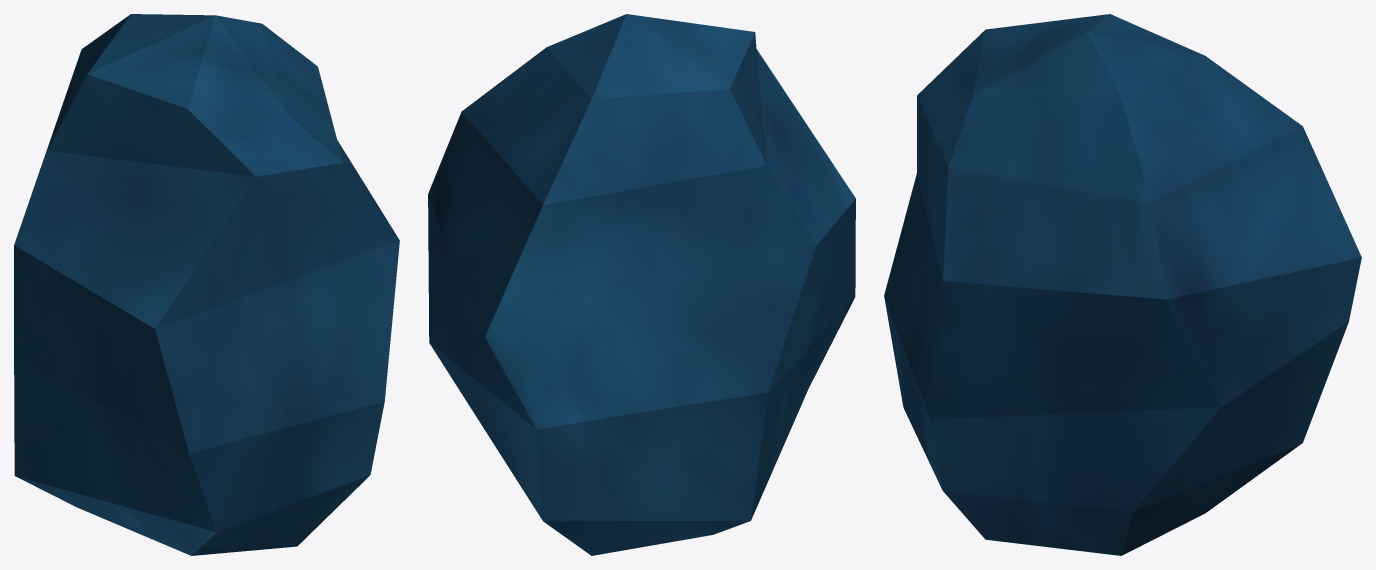
The model's file is Trufazul.fbx.
3 views of the same model, side by side, from view 1: azimuth 30°, elevation 25°; view 2: azimuth 150°, elevation 25°; view 3: azimuth 270°, elevation 25° (orthographic).
Visible parts, largest first — view 1: Sphere; view 2: Sphere; view 3: Sphere.
Part boxes in pixels (x1,y1,x2,y2): Sphere: (14,14,399,555); Sphere: (428,14,855,555); Sphere: (884,14,1361,555).
Size of the model in its own units: 146 by 202 by 171.
Materials: 1 (1 with a texture image).
